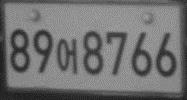6: (154, 31, 177, 77), (130, 31, 152, 76)
7: (105, 30, 127, 77)
8: (82, 29, 104, 75), (10, 28, 30, 74)
9: (32, 28, 54, 74)
어: (56, 37, 78, 76)
